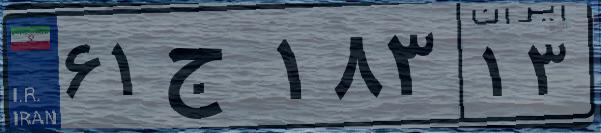1: (270, 28, 330, 110), (475, 38, 525, 113), (110, 28, 158, 98)
3: (385, 28, 445, 110), (525, 38, 570, 115)
6: (57, 26, 110, 100)
8: (330, 28, 385, 110)
ج: (158, 20, 270, 120)
